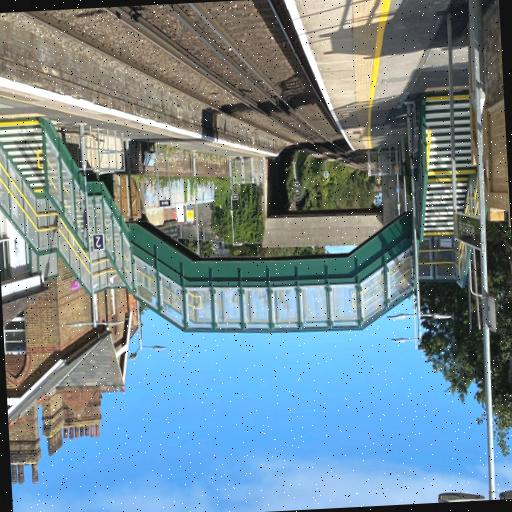platform_edge: (292, 0, 409, 155)
